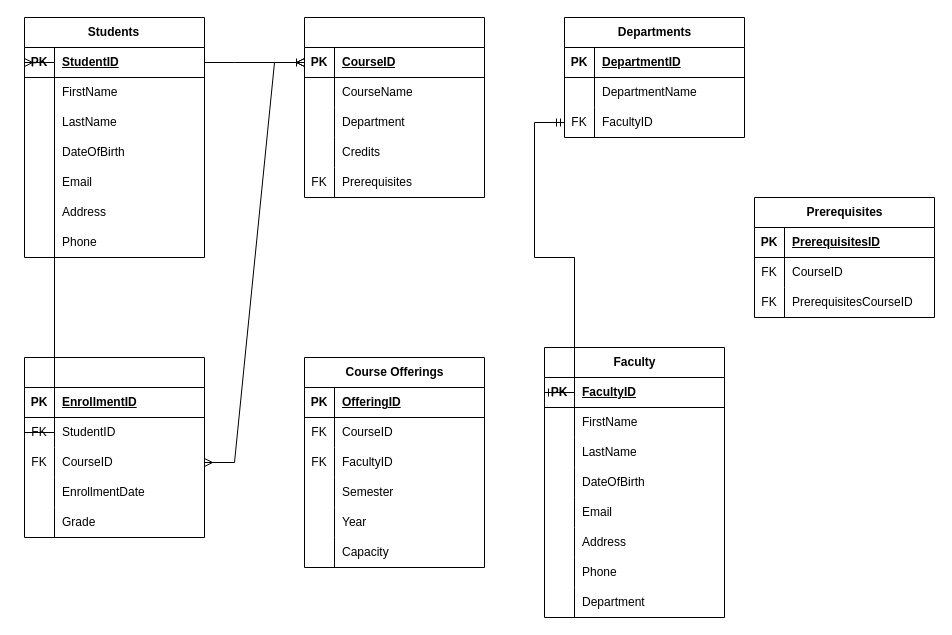
Some shapes in this 952 by 635 pixel diagram are drawn without their labels. The box of each missing label's shape, as (x1, y1, x2, y2) in pixels:
Courses: (304, 16, 484, 198)
Enrollments: (24, 356, 204, 538)
